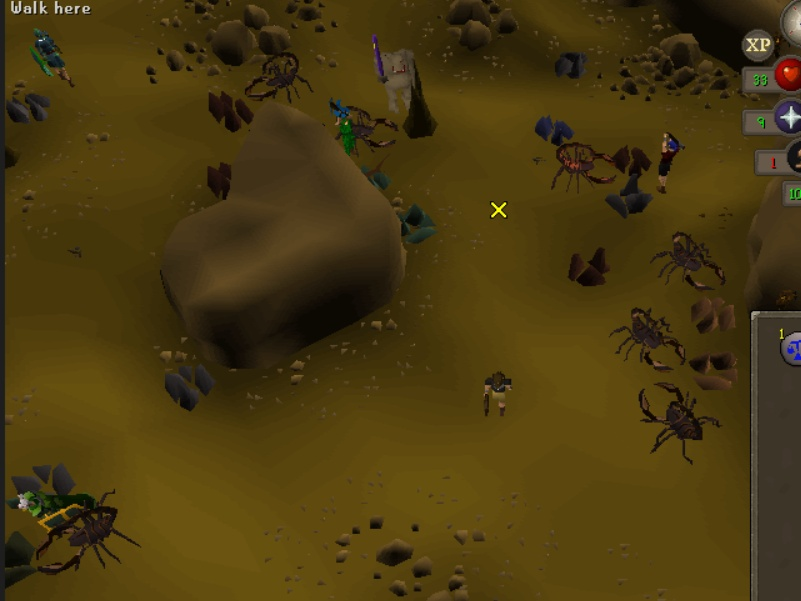adamant: (390, 201, 442, 245), (361, 162, 398, 192)
coal: (1, 521, 43, 592)
copper: (685, 284, 739, 336), (688, 343, 742, 395)
iron: (564, 243, 615, 291), (203, 84, 254, 132), (606, 133, 657, 181), (202, 160, 238, 202)
mithril: (531, 110, 577, 146)
